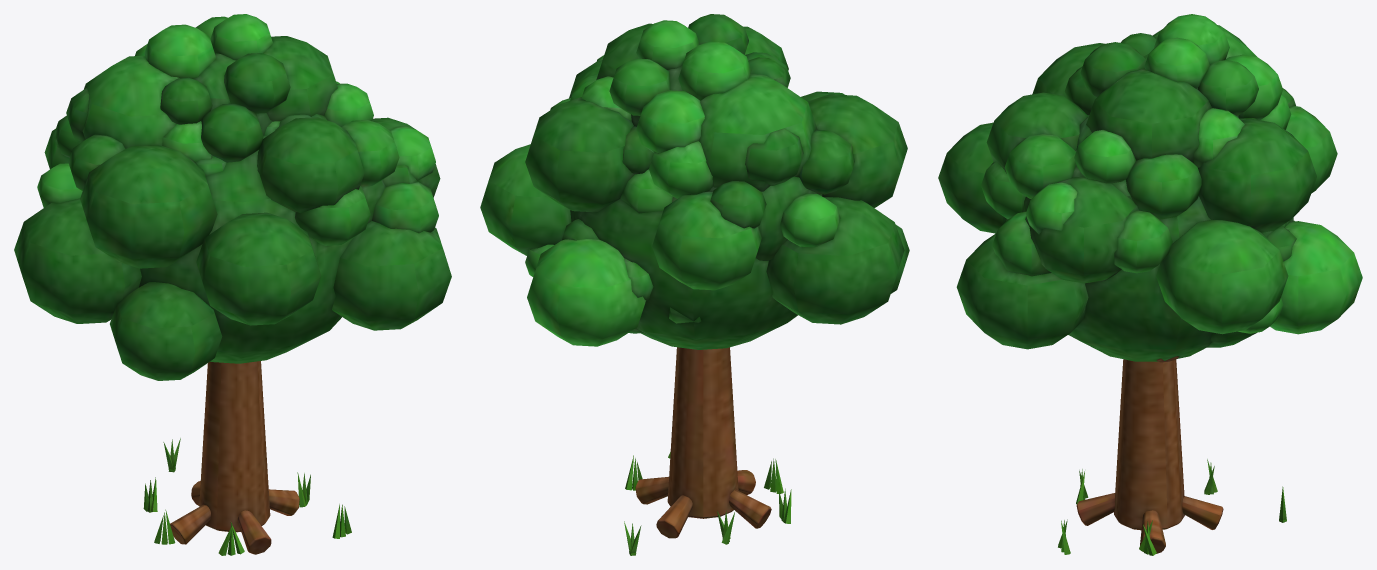
Rendered from lemon_tree.glb.
3 views of the same model, side by side, from view 1: azimuth 30°, elevation 25°; view 2: azimuth 150°, elevation 25°; view 3: azimuth 270°, elevation 25° (orthographic).
Parts seen in each view (by area): view 1: crown, lemon_tree; view 2: crown, lemon_tree; view 3: crown, lemon_tree.
Part boxes in pixels (x1,y1,x2,y2): crown: [14, 14, 451, 380]; lemon_tree: [143, 361, 351, 555]; crown: [480, 14, 909, 349]; lemon_tree: [624, 347, 791, 555]; crown: [938, 14, 1362, 361]; lemon_tree: [1058, 356, 1286, 555].
Bounding box in the file's own units: 1.11 × 1.37 × 1.06.
Materials: 1 (1 with a texture image).
